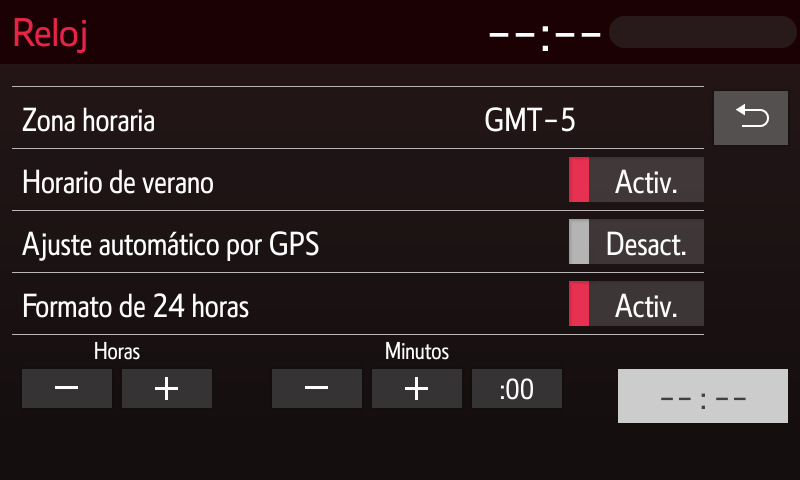touchPart: (7, 143, 710, 218), (9, 205, 708, 278), (6, 266, 703, 339), (10, 84, 706, 149), (471, 361, 570, 415), (709, 89, 793, 148), (370, 365, 462, 418), (271, 363, 366, 414), (122, 369, 215, 418), (19, 369, 114, 414)
untouchPart: (602, 366, 795, 425), (488, 15, 794, 50), (14, 14, 95, 53)
